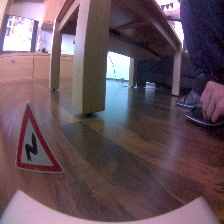vorsicht: (13, 99, 66, 175)
